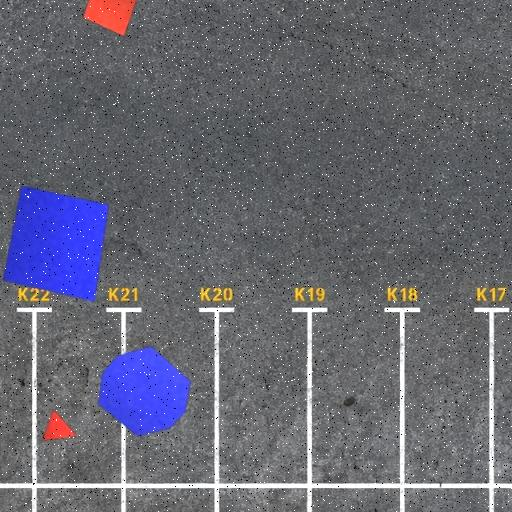BLUE_SQUARE: (2, 185, 110, 302)
RED_SQUARE: (82, 0, 140, 37)
